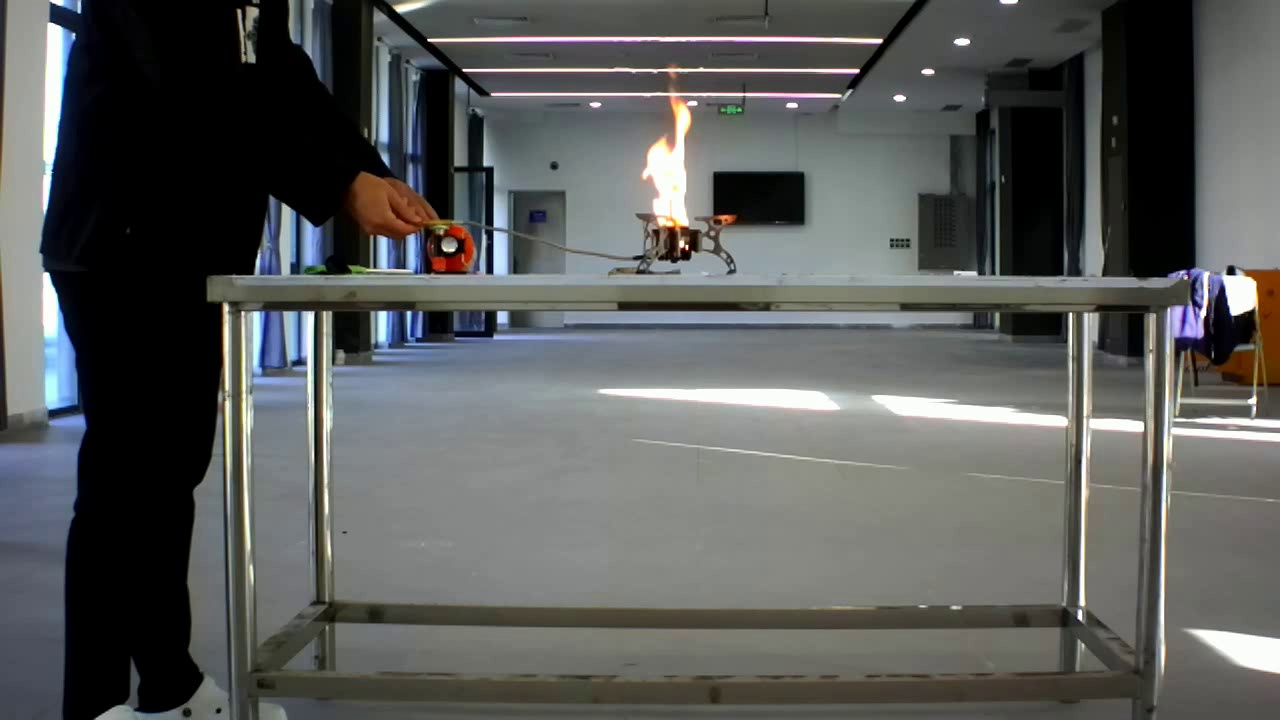Fire: (631, 85, 734, 262)
